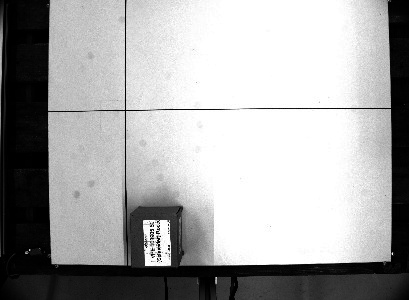b5: (127, 202, 188, 271)
